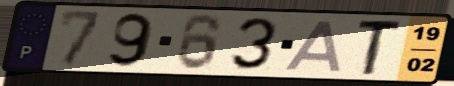3: (227, 15, 283, 73)
6: (175, 12, 223, 72)
7: (57, 8, 104, 69)
9: (106, 11, 158, 69)
A: (282, 18, 346, 74)
T: (354, 19, 406, 78)
